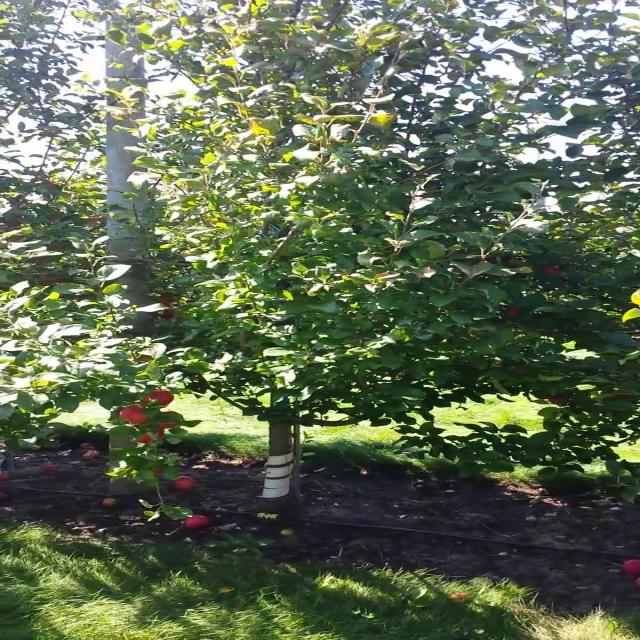apple: (118, 405, 149, 424), (142, 389, 176, 405), (36, 272, 62, 284), (540, 265, 567, 276), (547, 392, 569, 405), (418, 266, 436, 278), (158, 294, 173, 308), (136, 432, 153, 444), (507, 306, 522, 316), (158, 310, 176, 318), (160, 420, 178, 428), (153, 468, 164, 477), (156, 429, 163, 438)
